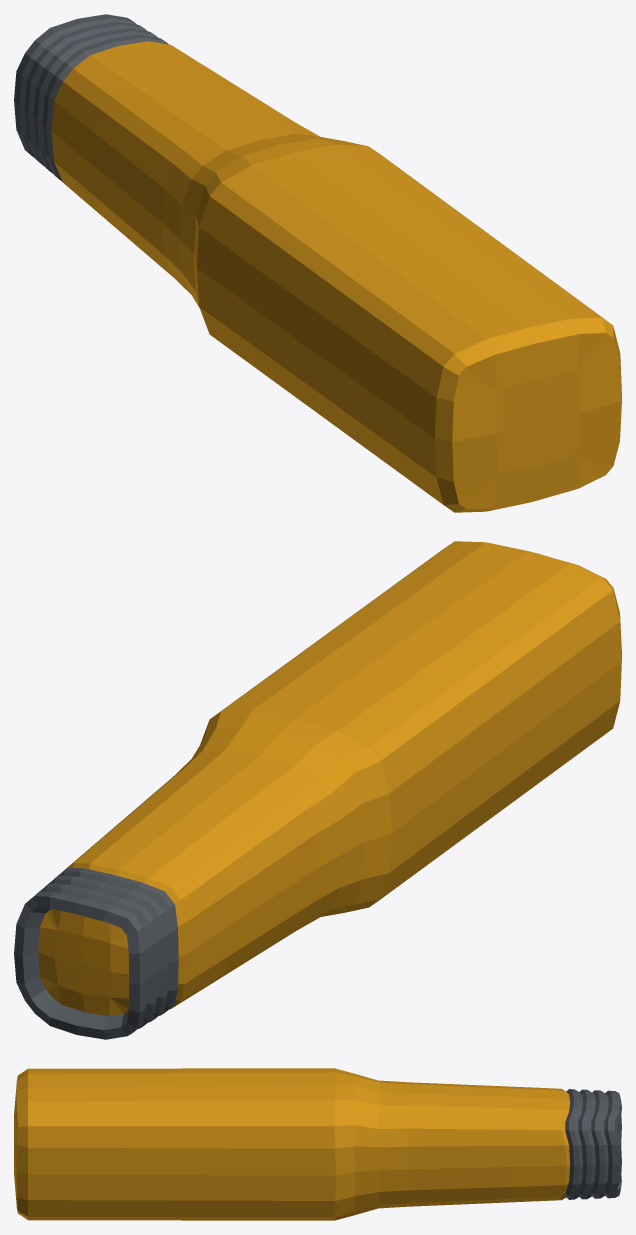
Rendered from Mothership_02_Central_Body_Yellow.fbx.
The picture shows the model from 3 angles, top to bottom: view 1: azimuth 30°, elevation 25°; view 2: azimuth 150°, elevation 25°; view 3: azimuth 270°, elevation 25°; orthographic projection. The views are drawn at different scales.
Visible parts, largest first — view 1: Mothership_02_Central_Body_Yellow; view 2: Mothership_02_Central_Body_Yellow; view 3: Mothership_02_Central_Body_Yellow.
Part boxes in pixels (x1,y1,x2,y2): Mothership_02_Central_Body_Yellow: [14, 14, 621, 512]; Mothership_02_Central_Body_Yellow: [14, 541, 621, 1039]; Mothership_02_Central_Body_Yellow: [14, 1068, 621, 1220].
Bounding box in the file's own units: 984 × 881 × 4050.
Materials: 1 (1 with a texture image).
